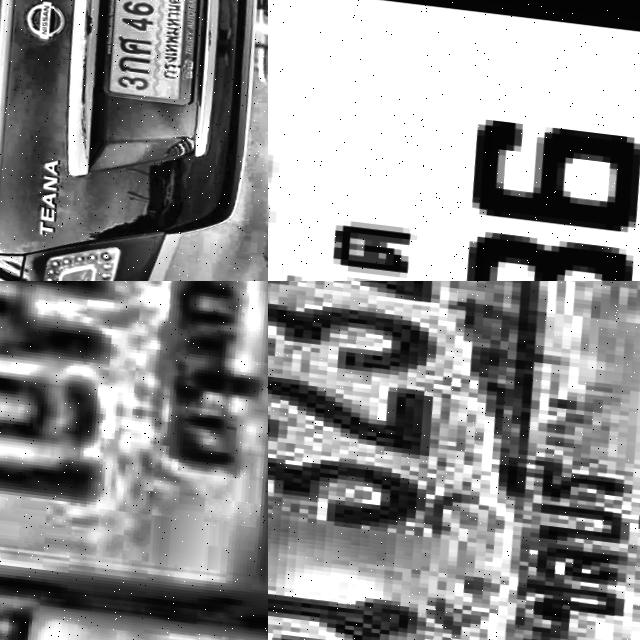license-plate: (268, 281, 640, 640), (268, 0, 640, 281), (0, 281, 268, 640), (86, 0, 204, 107)
